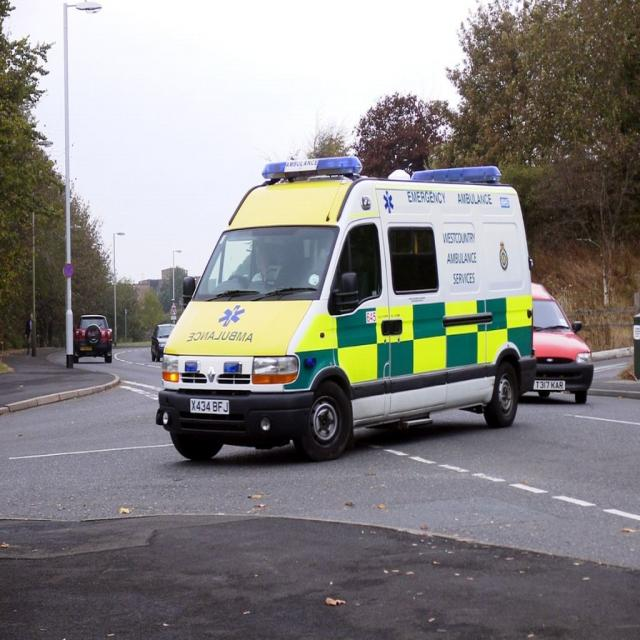Ambulance: (154, 155, 538, 458)
